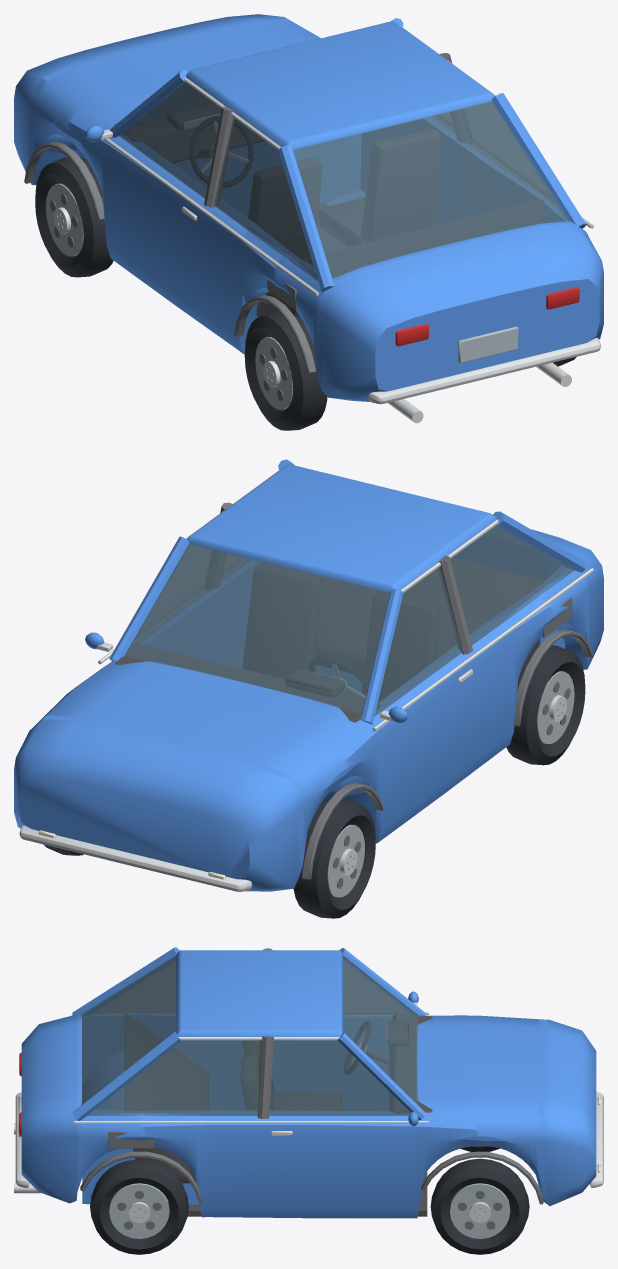
File: Pebble.fbx
The picture shows the model from 3 angles, top to bottom: view 1: azimuth 30°, elevation 25°; view 2: azimuth 150°, elevation 25°; view 3: azimuth 270°, elevation 25°; orthographic projection. The views are drawn at different scales.
Parts seen in each view (by area): view 1: Body__paint, Body__glass, Body__interior, Body__chrome, Body__engine, WheelRL__rubber, WheelFL__rubber, Body__metal, WheelRL__metal, WheelFL__metal, Body__tail, Steer__rubber; view 2: Body__paint, Body__glass, Body__interior, Body__chrome, Body__engine, WheelFL__rubber, WheelRL__rubber, WheelRL__metal, WheelFL__metal; view 3: Body__paint, Body__glass, Body__interior, WheelFR__rubber, WheelRR__rubber, Body__engine, Body__chrome, WheelRR__metal, WheelFR__metal.
Part boxes in pixels (x1=…): Body__paint: x1=14, y1=14, x2=603, y2=401; Body__glass: x1=118, y1=82, x2=570, y2=281; Body__interior: x1=114, y1=103, x2=543, y2=317; Body__chrome: x1=100, y1=25, x2=600, y2=423; Body__engine: x1=24, y1=53, x2=468, y2=373; WheelRL__rubber: x1=244, y1=311, x2=327, y2=430; WheelFL__rubber: x1=35, y1=157, x2=113, y2=277; Body__metal: x1=184, y1=114, x2=518, y2=363; WheelRL__metal: x1=255, y1=337, x2=293, y2=409; WheelFL__metal: x1=46, y1=183, x2=83, y2=256; Body__tail: x1=395, y1=287, x2=579, y2=346; Steer__rubber: x1=189, y1=116, x2=253, y2=187; Body__paint: x1=14, y1=459, x2=603, y2=891; Body__glass: x1=124, y1=525, x2=574, y2=716; Body__interior: x1=115, y1=558, x2=543, y2=722; Body__chrome: x1=19, y1=468, x2=593, y2=892; Body__engine: x1=208, y1=502, x2=593, y2=879; WheelFL__rubber: x1=293, y1=798, x2=375, y2=918; WheelRL__rubber: x1=506, y1=645, x2=585, y2=765; WheelRL__metal: x1=537, y1=671, x2=574, y2=743; WheelFL__metal: x1=327, y1=824, x2=364, y2=897; Body__paint: x1=21, y1=947, x2=596, y2=1218; Body__glass: x1=79, y1=955, x2=419, y2=1115; Body__interior: x1=125, y1=1013, x2=432, y2=1216; WheelFR__rubber: x1=430, y1=1158, x2=529, y2=1254; WheelRR__rubber: x1=90, y1=1160, x2=188, y2=1254; Body__engine: x1=80, y1=948, x2=543, y2=1204; Body__chrome: x1=14, y1=1002, x2=603, y2=1193; WheelRR__metal: x1=109, y1=1183, x2=169, y2=1238; WheelFR__metal: x1=450, y1=1183, x2=510, y2=1238.
Bounding box in the file's own units: 1.94 × 1.5 × 3.81.
